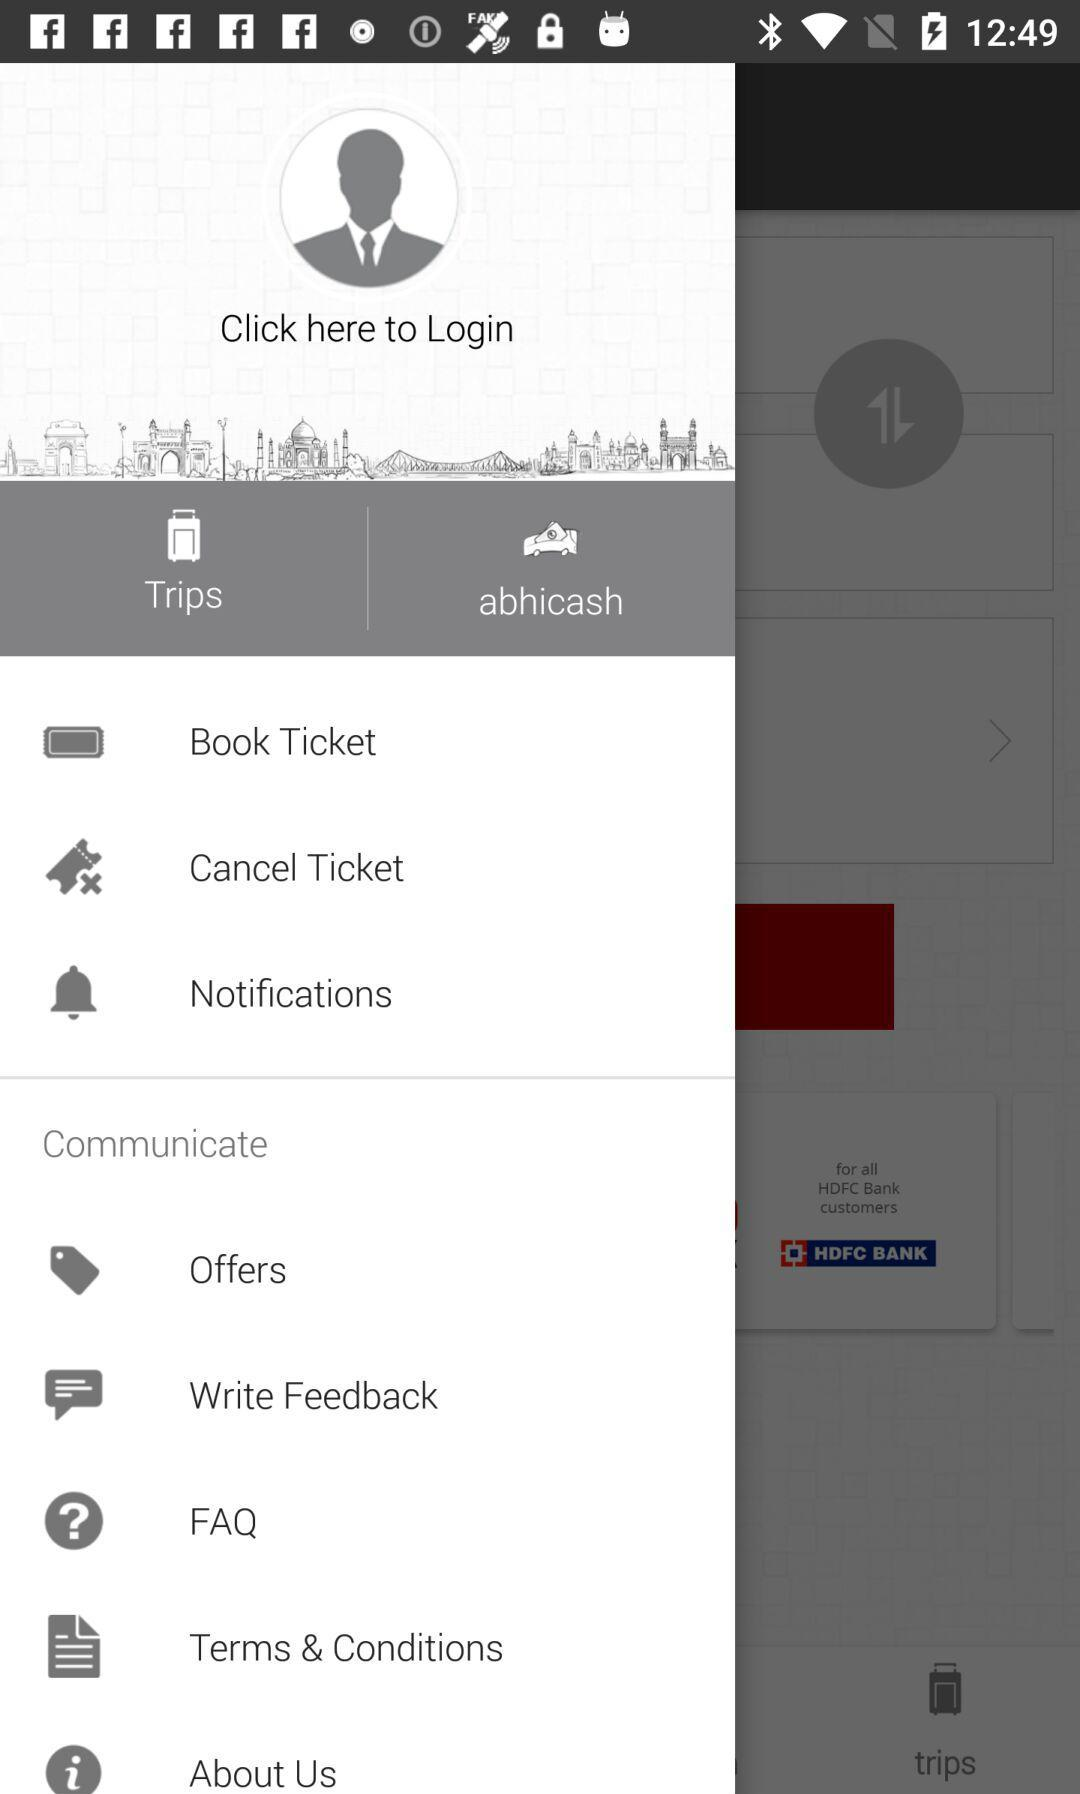Drawer: (1, 63, 735, 1794)
Icon: (278, 108, 461, 290), (45, 1492, 105, 1551), (47, 1615, 102, 1679), (45, 838, 104, 896), (45, 1369, 104, 1421), (50, 965, 99, 1023), (47, 1745, 104, 1794), (50, 1246, 102, 1297)
Image: (521, 520, 580, 560), (44, 725, 106, 760), (167, 507, 204, 565)
Text: (222, 311, 515, 351), (190, 1633, 503, 1663), (190, 1380, 439, 1411), (44, 1128, 269, 1158), (191, 852, 406, 883), (191, 976, 393, 1008), (192, 727, 378, 757), (479, 584, 624, 618), (190, 1758, 338, 1789), (190, 1253, 287, 1285), (143, 579, 224, 618), (192, 1507, 258, 1540)
UpperTaskBar: (1, 1, 1080, 64)
